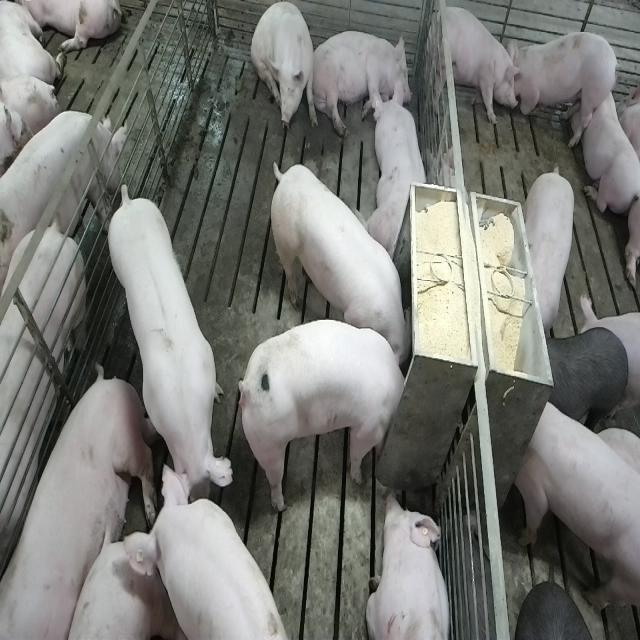Feeding: (244, 319, 417, 516), (264, 159, 412, 364)
Lateral_lying: (3, 366, 157, 640), (309, 29, 414, 139)
Sitting: (250, 2, 316, 142)
Standing: (106, 184, 237, 517), (0, 221, 89, 603), (515, 394, 638, 617), (138, 465, 287, 640), (0, 106, 123, 286), (511, 28, 617, 148), (430, 3, 520, 131), (524, 161, 578, 333), (545, 326, 629, 426)
Sternal_lying: (366, 490, 453, 640), (367, 85, 432, 264), (581, 79, 639, 215)
